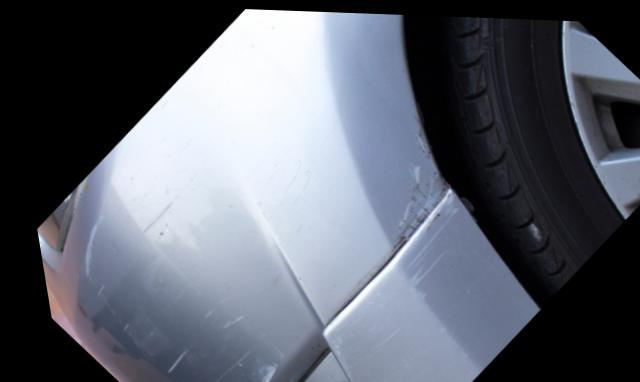scratch: (71, 207, 273, 382), (316, 187, 461, 382)
